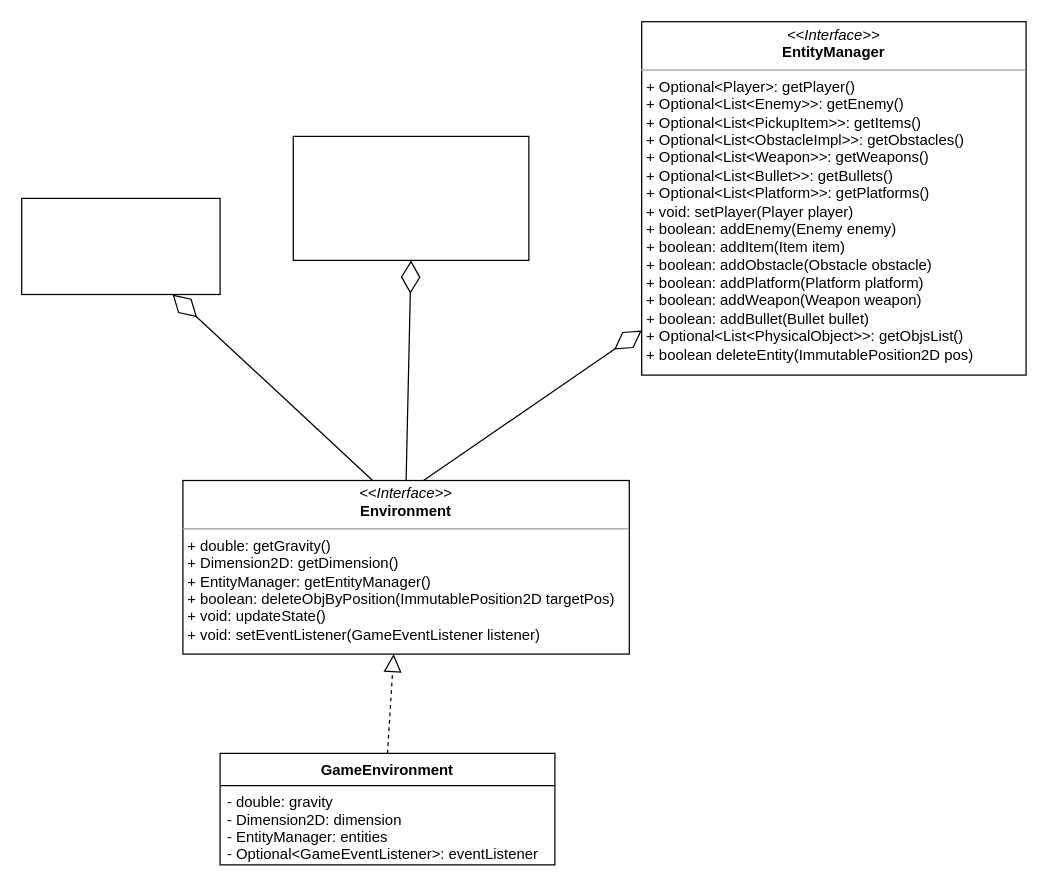
Some shapes in this 1048 by 890 pixel diagram are drawn without their labels. The shapes that lost their labels are listed below. From the top down, each one's centre as x and y in pixels, then its label:
At [410,197]: "«interface» Dimension2D".
At [120,245]: "«interface» GameEventListener".
